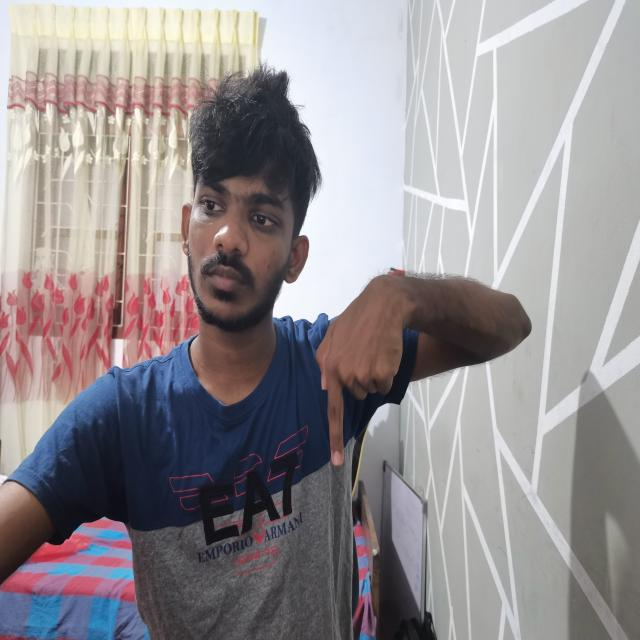Yes: (312, 261, 432, 474), (313, 267, 431, 470)
